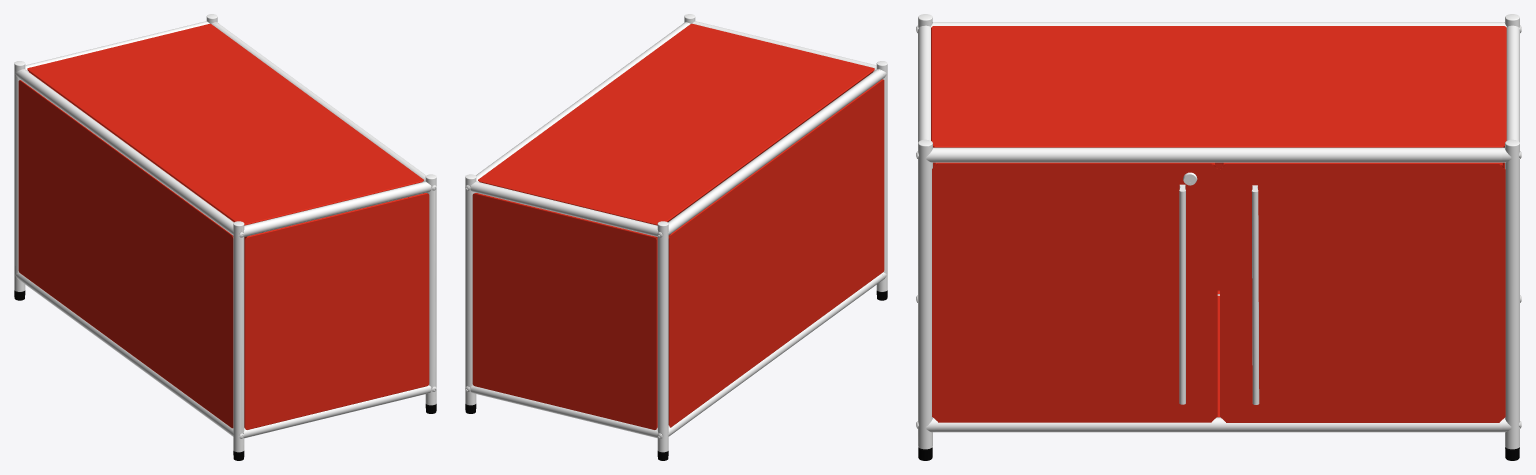
The model's file is 80x40x40-1-7-red_optimized_optimized.glb.
3 renders of one model, left to right at view 1: azimuth 30°, elevation 25°; view 2: azimuth 150°, elevation 25°; view 3: azimuth 270°, elevation 25°, orthographic. The views are drawn at different scales.
Visible parts, largest first — view 1: 直角鐵板-80x40-5 - 零件, new-上塞-1 - 零件; view 2: 直角鐵板-80x40-5 - 零件, new-上塞-1 - 零件; view 3: 直角鐵板-80x40-5 - 零件, new-上塞-1 - 零件.
Part boxes in pixels (x1=…): 直角鐵板-80x40-5 - 零件: x1=18, y1=23, x2=429, y2=429; new-上塞-1 - 零件: x1=14, y1=14, x2=436, y2=452; 直角鐵板-80x40-5 - 零件: x1=472, y1=23, x2=884, y2=429; new-上塞-1 - 零件: x1=465, y1=14, x2=887, y2=452; 直角鐵板-80x40-5 - 零件: x1=931, y1=26, x2=1506, y2=422; new-上塞-1 - 零件: x1=916, y1=14, x2=1521, y2=449.
Size of the model in its own units: 0.4203 by 0.4453 by 0.7732.
